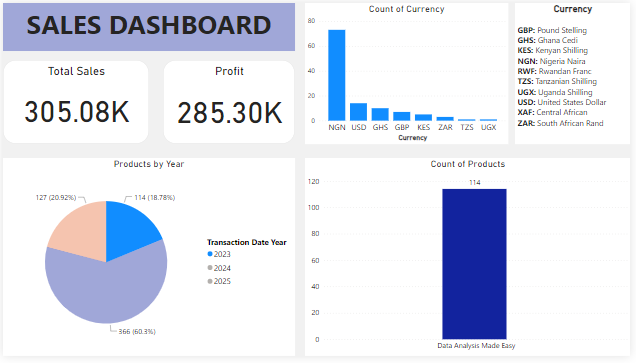

This screenshot's page, from the dashboard's own definition file:
{"tool":"powerbi","page":{"name":"Page 1","canvas":[1280,720],"ordinal":0},"visuals":[{"type":"textbox","box":[0,0,596.1,98],"z":0},{"type":"textbox","title":"Currency","box":[1044.2,0,236.5,288.5],"z":1000},{"type":"card","title":"Total Sales","fields":{"Values":["Sum(Sales Data csv.Total)"]},"box":[0,117.3,298.1,171.2],"z":2000},{"type":"card","title":"Profit","fields":{"Values":["Sum(Sales Data csv.Your Profit)"]},"box":[326.9,117.3,269.2,171.2],"z":3000},{"type":"clusteredColumnChart","title":"Count of Products ","fields":{"Category":["Sales Data csv.Products"],"Series":["Sales Data csv.Products"],"Y":["CountNonNull(Sales Data csv.Products)"]},"box":[615.4,315.4,665.4,403.8],"z":4000},{"type":"pieChart","title":"Products by Year","fields":{"Category":["Sales Data csv.Transaction Date.Variation.Date Hierarchy.Year"],"Y":["CountNonNull(Sales Data csv.Products)"]},"box":[0,315.4,596.2,403.8],"z":5000},{"type":"clusteredColumnChart","title":"Count of Currency","fields":{"Category":["Sales Data csv.Currency"],"Y":["CountNonNull(Sales Data csv.Currency)"]},"box":[615.4,0,415.4,288.5],"z":6000}]}

Visuals, with their boxes in screenshot pixels (x1, y1, x2, y2), scaled from the page's 1280x720 canvas onto the 636x363 screenshot:
textbox: bbox=[0, 0, 296, 49]
"Currency" textbox: bbox=[519, 0, 635, 145]
"Total Sales" card: bbox=[0, 59, 148, 145]
"Profit" card: bbox=[162, 59, 296, 145]
"Count of Products " clusteredColumnChart: bbox=[306, 159, 635, 362]
"Products by Year" pieChart: bbox=[0, 159, 296, 362]
"Count of Currency" clusteredColumnChart: bbox=[306, 0, 512, 145]
